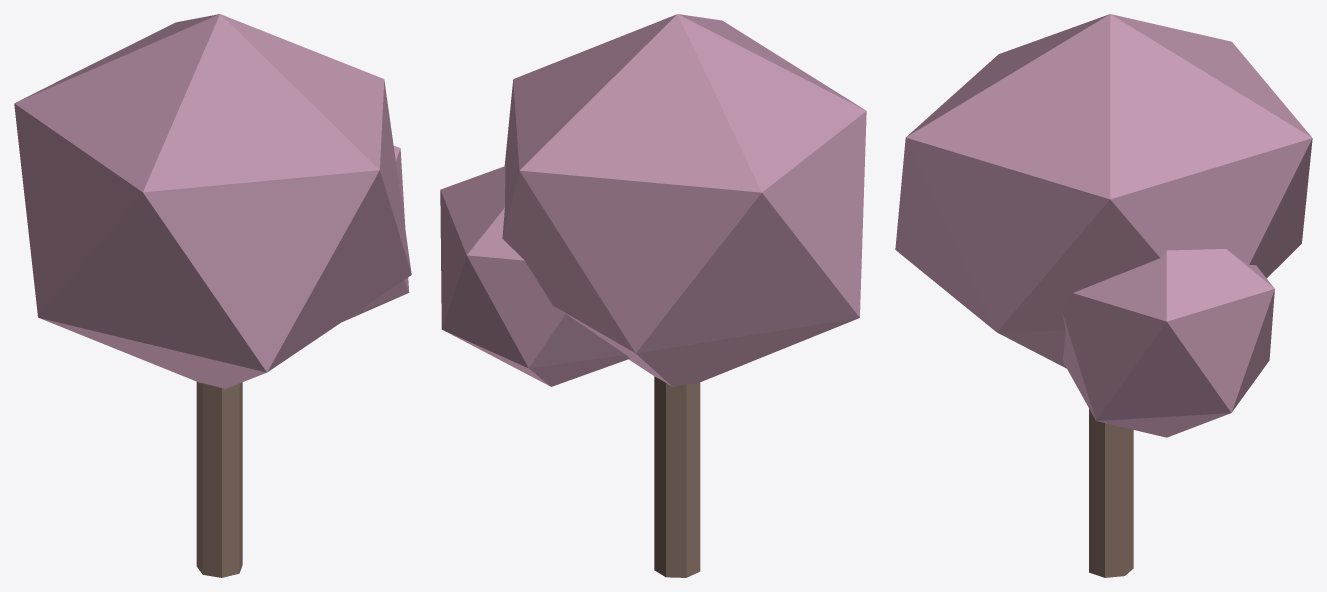
Rendered from tree_round.glb.
3 renders of one model, left to right at view 1: azimuth 30°, elevation 25°; view 2: azimuth 150°, elevation 25°; view 3: azimuth 270°, elevation 25°, orthographic.
Parts seen in each view (by area): view 1: SCN_tree_round; view 2: SCN_tree_round; view 3: SCN_tree_round.
Part boxes in pixels (left/top/right/bottom): SCN_tree_round: left=14, top=14, right=411, bottom=577; SCN_tree_round: left=440, top=14, right=866, bottom=577; SCN_tree_round: left=895, top=14, right=1312, bottom=577.
Size of the model in its own units: 4.79 by 6.49 by 4.43.
